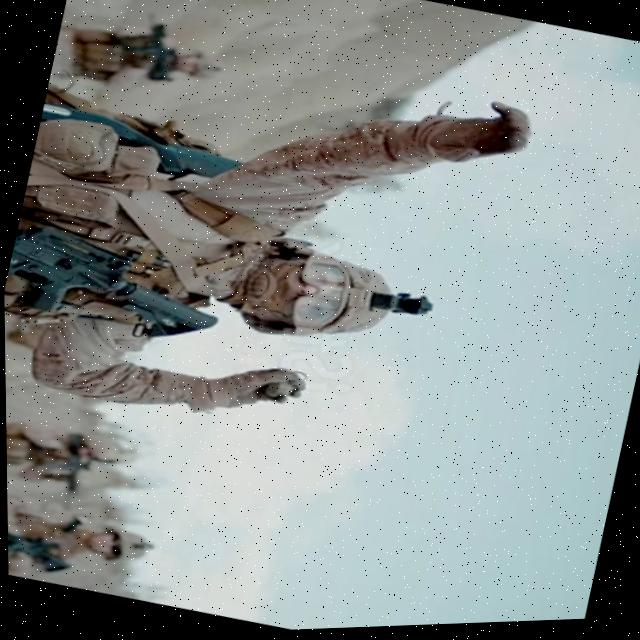grenade: (255, 363, 314, 412)
